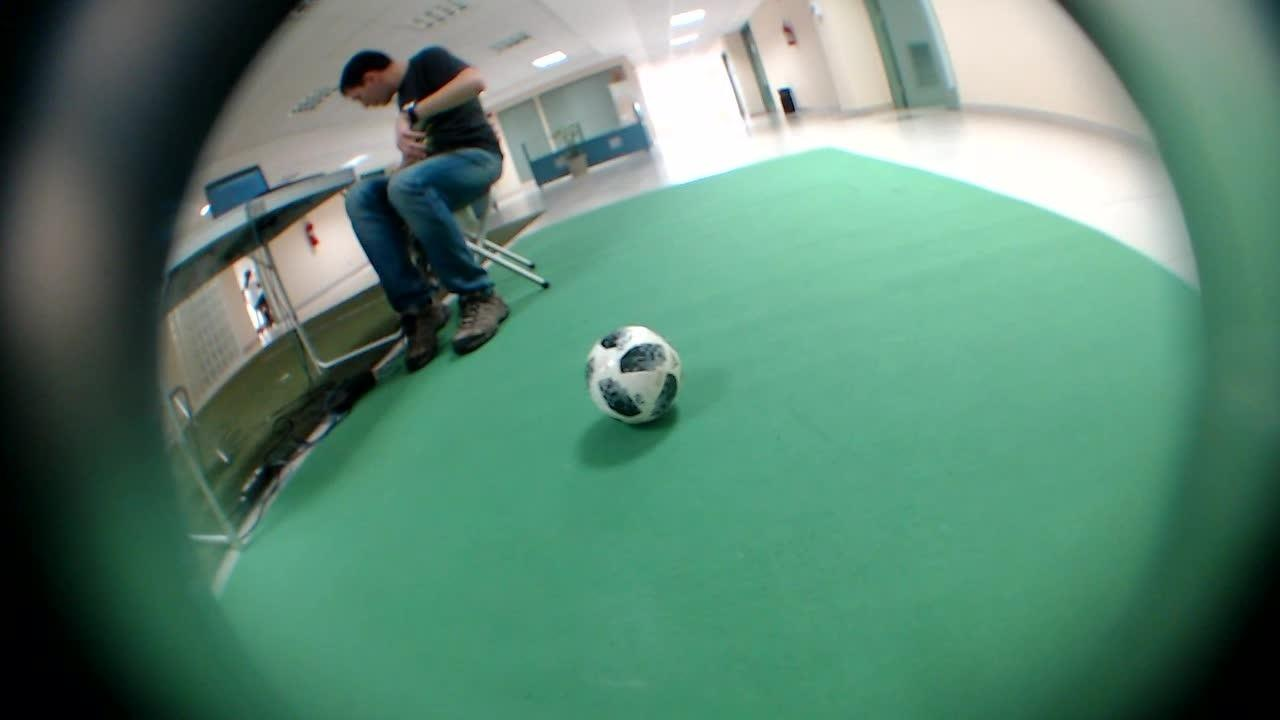ball: (580, 310, 698, 442)
